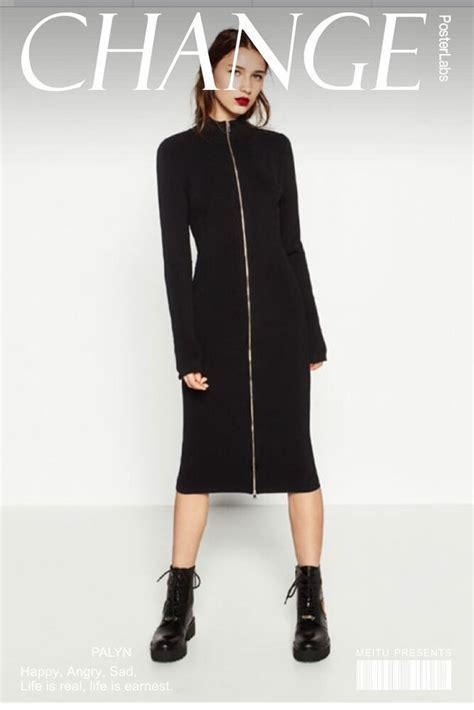dress: (156, 118, 327, 494)
